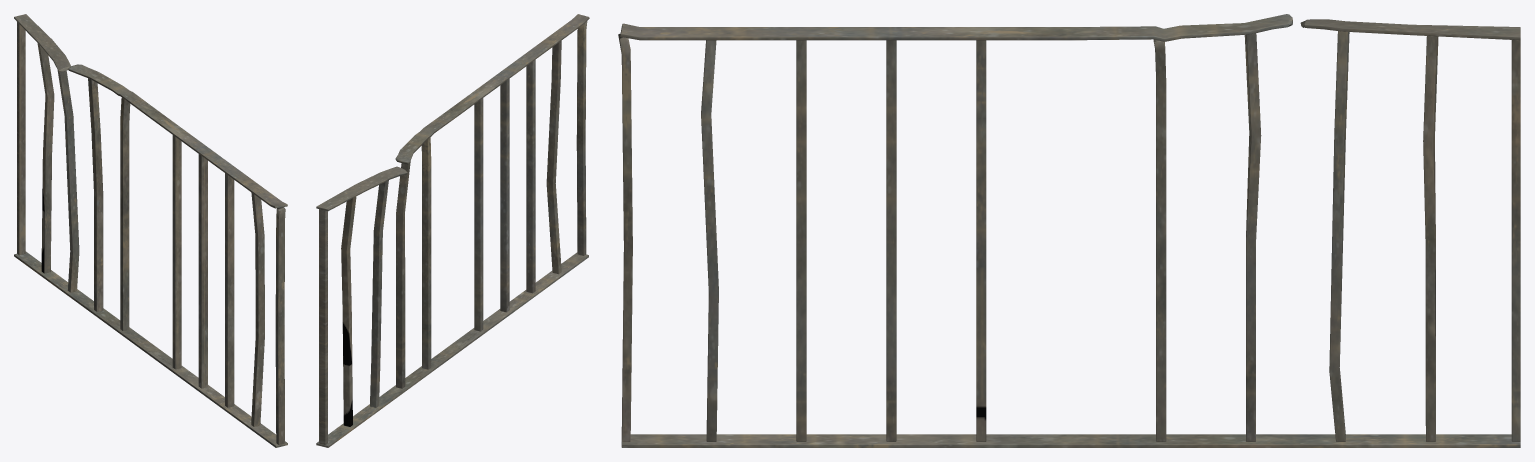
Rendered from SM_Brutalist_Fence_01_D_LOD0.glb.
3 renders of one model, left to right at view 1: azimuth 30°, elevation 25°; view 2: azimuth 150°, elevation 25°; view 3: azimuth 270°, elevation 25°, orthographic. The views are drawn at different scales.
Visible parts, largest first — view 1: SM_Brutalist_Fence_01_D_LOD0; view 2: SM_Brutalist_Fence_01_D_LOD0; view 3: SM_Brutalist_Fence_01_D_LOD0.
Boxes of the visible parts, left/top/right/bottom form: SM_Brutalist_Fence_01_D_LOD0: left=14, top=14, right=287, bottom=447; SM_Brutalist_Fence_01_D_LOD0: left=316, top=14, right=589, bottom=447; SM_Brutalist_Fence_01_D_LOD0: left=618, top=14, right=1520, bottom=447.
Bounding box in the file's own units: 0.1419 × 1.02 × 2.01.
Materials: 1 (1 with a texture image).
